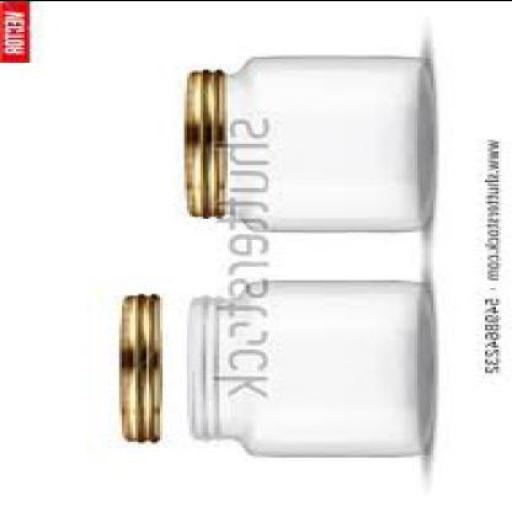glass: (190, 277, 433, 454), (222, 52, 430, 229)
metal: (117, 290, 160, 440), (184, 66, 222, 216)
